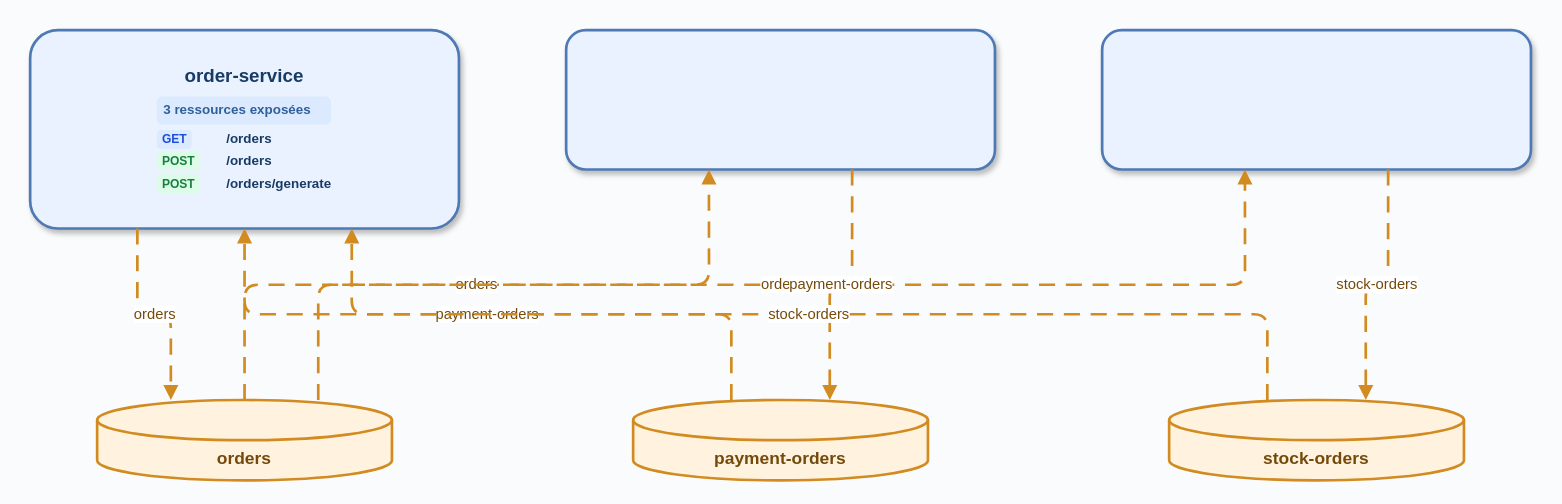
This 1562x504 diagram has some shape labels left out. Each missing label, with the centre of its shape:
payment-service Aucune ressource exposée Aucune ressource HTTP détectée: the point at 781,101
stock-service Aucune ressource exposée Aucune ressource HTTP détectée: the point at 1317,101
